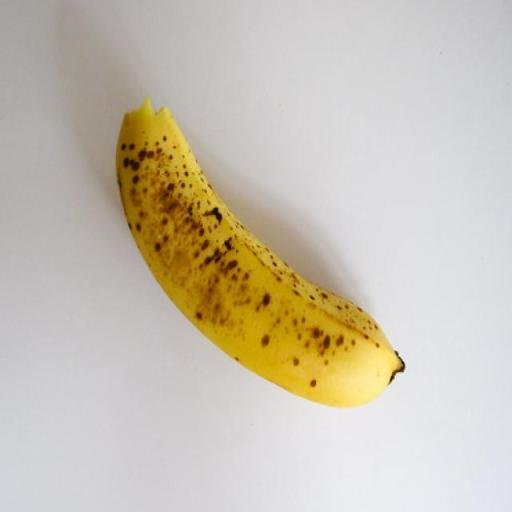fruit: (116, 100, 403, 406)
